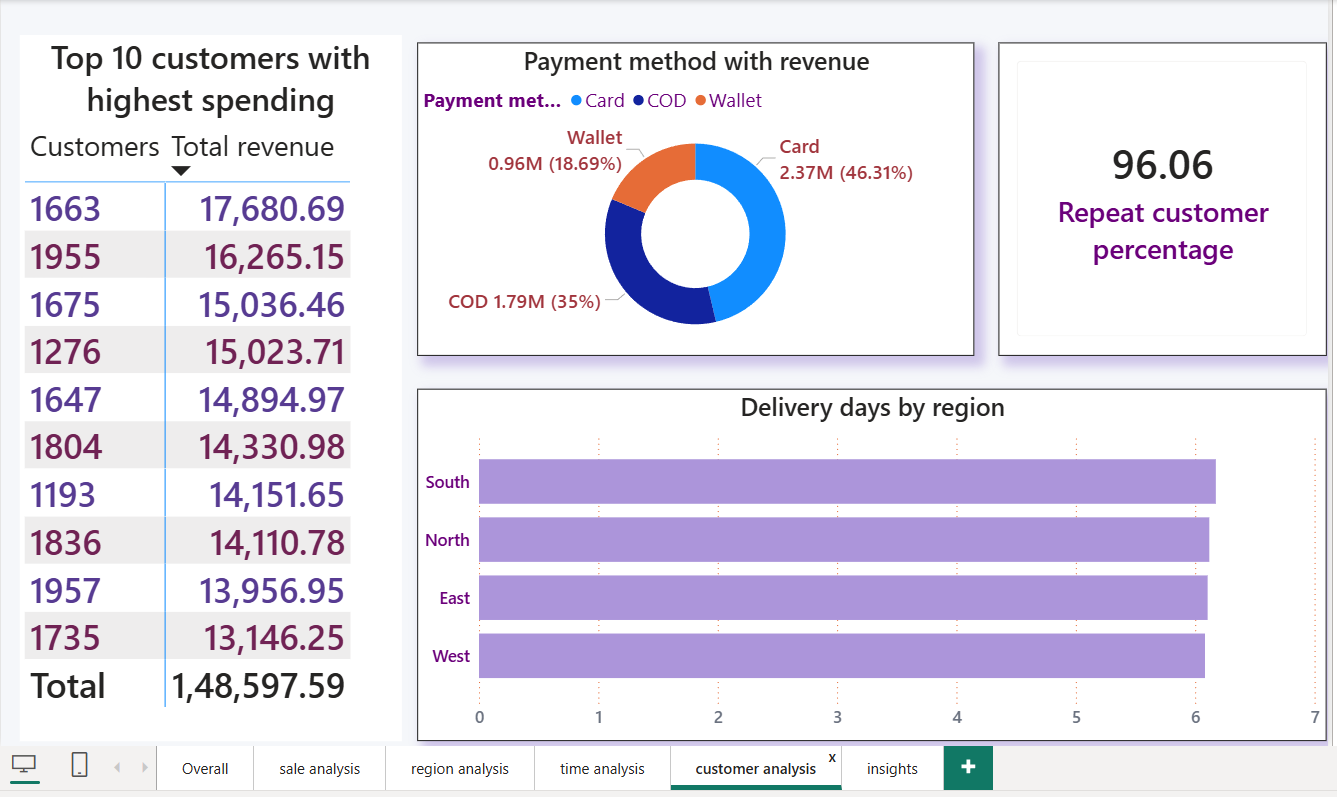

Layout of this report page (visuals, bound fields, positions):
{"tool":"powerbi","page":{"name":"customer analysis","canvas":[1280,720],"ordinal":4},"visuals":[{"type":"pivotTable","title":"Top 10 customers with highest spending","fields":{"Rows":["ecommerce.customer_id"],"Values":["Sum(ecommerce.revenue)"]},"box":[17.8,33.8,368.4,681.7],"z":0},{"type":"cardVisual","fields":{"Data":["ecommerce.Repeat customer percentage"]},"box":[962.9,40.9,316.8,302.6],"z":1000},{"type":"donutChart","title":"Payment method with revenue","fields":{"Y":["Sum(ecommerce.revenue)"],"Category":["ecommerce.payment_method"]},"box":[402.2,40.9,537.5,302.6],"z":2000},{"type":"barChart","title":"Delivery days by region","fields":{"Category":["ecommerce.region"],"Y":["Avg(ecommerce.delivery_days)"]},"box":[402.2,375.5,877.4,339.9],"z":3000}]}

Visuals, with their boxes on the page's 1280x720 design canvas (x1, y1, x2, y2). These are canvas units, not pixel positions in the 1337x797 screenshot, which may show the page scaled, cropped or inside an application window:
"Top 10 customers with highest spending" pivotTable: Rect(18, 34, 386, 716)
cardVisual - ecommerce.Repeat customer percentage: Rect(963, 41, 1280, 344)
"Payment method with revenue" donutChart: Rect(402, 41, 940, 344)
"Delivery days by region" barChart: Rect(402, 376, 1280, 715)
